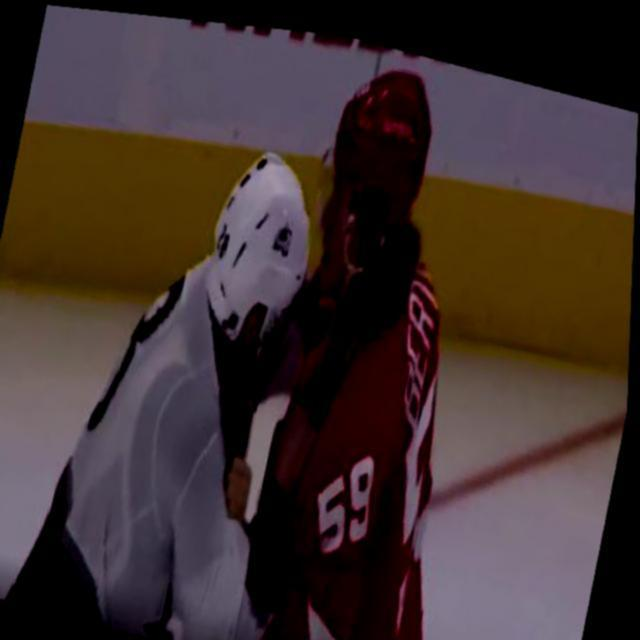fight: (14, 3, 549, 640)
